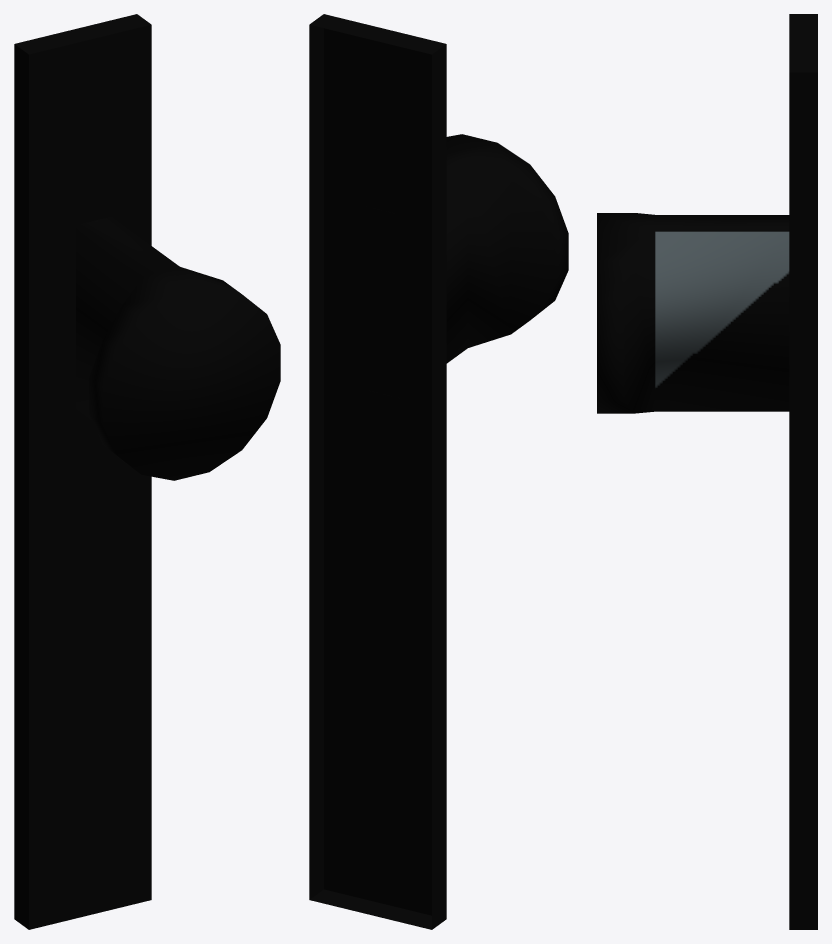
The model's file is OSG_Scene.gltf.
3 renders of one model, left to right at view 1: azimuth 30°, elevation 25°; view 2: azimuth 150°, elevation 25°; view 3: azimuth 270°, elevation 25°, orthographic. The views are drawn at different scales.
Parts seen in each view (by area): view 1: Handle_Basic_2; view 2: Handle_Basic_2; view 3: Handle_Basic_2.
Part boxes in pixels (bbox=[...]): Handle_Basic_2: bbox=[14, 14, 280, 929]; Handle_Basic_2: bbox=[309, 14, 568, 929]; Handle_Basic_2: bbox=[597, 14, 817, 929].
Size of the model in its own units: 0.4917 by 2.32 by 0.5407.
1 material, 1 textured.
